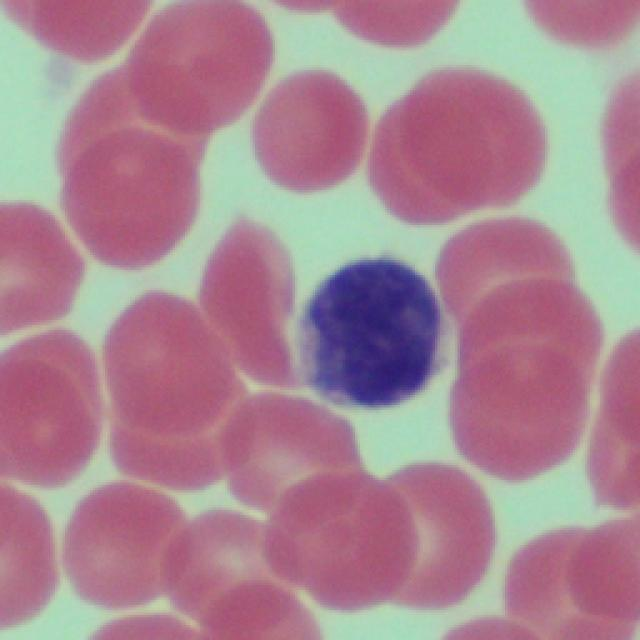RBC: (434, 217, 597, 493), (363, 58, 543, 234), (94, 284, 242, 494), (57, 61, 201, 268), (61, 481, 202, 637), (266, 480, 416, 617), (123, 0, 266, 135), (367, 460, 494, 602), (230, 384, 360, 520), (244, 62, 368, 201), (0, 322, 95, 498), (194, 206, 295, 370), (504, 520, 639, 638), (152, 510, 300, 617), (0, 0, 148, 70), (597, 54, 640, 266), (0, 482, 58, 629), (513, 0, 640, 52)
WBC: (300, 228, 450, 425)
